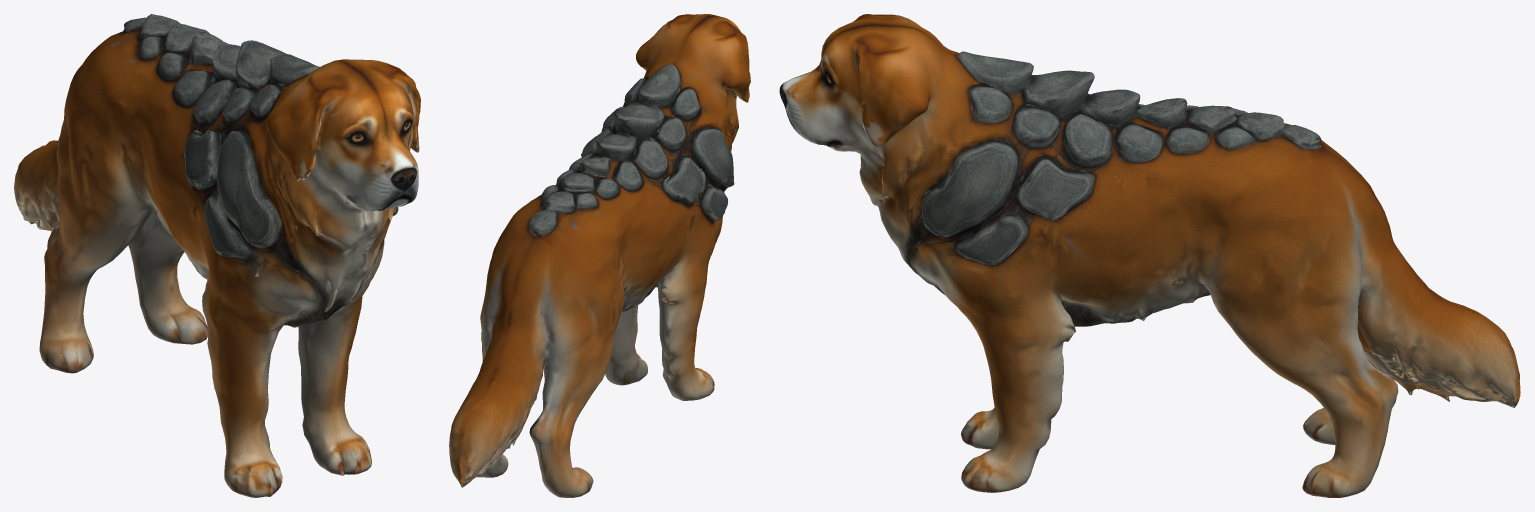
File: terrapup_dog3_retex_r2.glb
3 renders of one model, left to right at view 1: azimuth 30°, elevation 25°; view 2: azimuth 150°, elevation 25°; view 3: azimuth 270°, elevation 25°, orthographic. The views are drawn at different scales.
Size of the model in its own units: 0.4989 by 1.31 by 2.
1 material, 1 textured.
